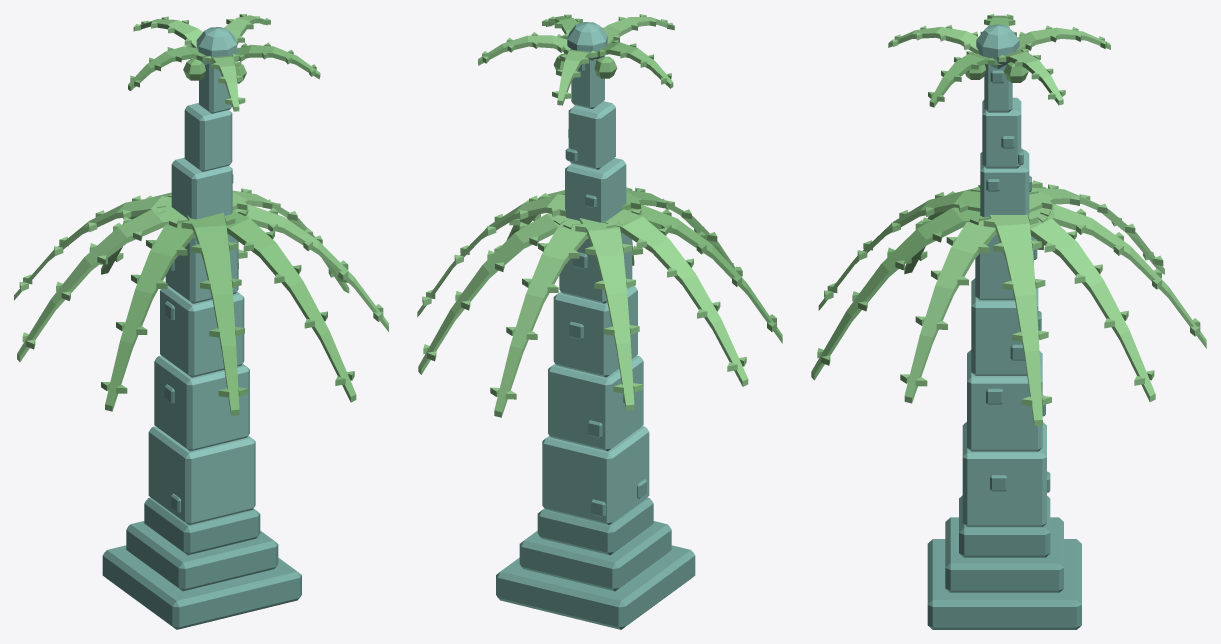
File: UnderwaterKelpTree.fbx
3 renders of one model, left to right at view 1: azimuth 30°, elevation 25°; view 2: azimuth 150°, elevation 25°; view 3: azimuth 270°, elevation 25°, orthographic. The views are drawn at different scales.
Parts seen in each view (by area): view 1: UnderwaterKelpTree.Stalk, UnderwaterKelpTree.Base, UnderwaterKelpTree.FrondsDark, UnderwaterKelpTree.Fronds, UnderwaterKelpTree.StalkStuds; view 2: UnderwaterKelpTree.Stalk, UnderwaterKelpTree.Fronds, UnderwaterKelpTree.Base, UnderwaterKelpTree.FrondsDark, UnderwaterKelpTree.StalkStuds; view 3: UnderwaterKelpTree.Stalk, UnderwaterKelpTree.Fronds, UnderwaterKelpTree.Base, UnderwaterKelpTree.FrondsDark, UnderwaterKelpTree.StalkStuds.
Part boxes in pixels (bbox=[...]): UnderwaterKelpTree.Stalk: bbox=[148, 27, 255, 524]; UnderwaterKelpTree.Base: bbox=[102, 497, 301, 629]; UnderwaterKelpTree.FrondsDark: bbox=[101, 42, 356, 415]; UnderwaterKelpTree.Fronds: bbox=[14, 14, 388, 361]; UnderwaterKelpTree.StalkStuds: bbox=[164, 174, 233, 513]; UnderwaterKelpTree.Stalk: bbox=[542, 22, 649, 524]; UnderwaterKelpTree.Fronds: bbox=[417, 14, 748, 417]; UnderwaterKelpTree.Base: bbox=[496, 497, 695, 629]; UnderwaterKelpTree.FrondsDark: bbox=[542, 14, 782, 343]; UnderwaterKelpTree.StalkStuds: bbox=[565, 63, 646, 517]; UnderwaterKelpTree.Stalk: bbox=[962, 24, 1046, 526]; UnderwaterKelpTree.Fronds: bbox=[888, 24, 1206, 425]; UnderwaterKelpTree.Base: bbox=[927, 495, 1081, 629]; UnderwaterKelpTree.FrondsDark: bbox=[811, 14, 1028, 380]; UnderwaterKelpTree.StalkStuds: bbox=[986, 70, 1050, 492].
Bounding box in the file's own units: 6.86 × 11.2 × 6.92.
